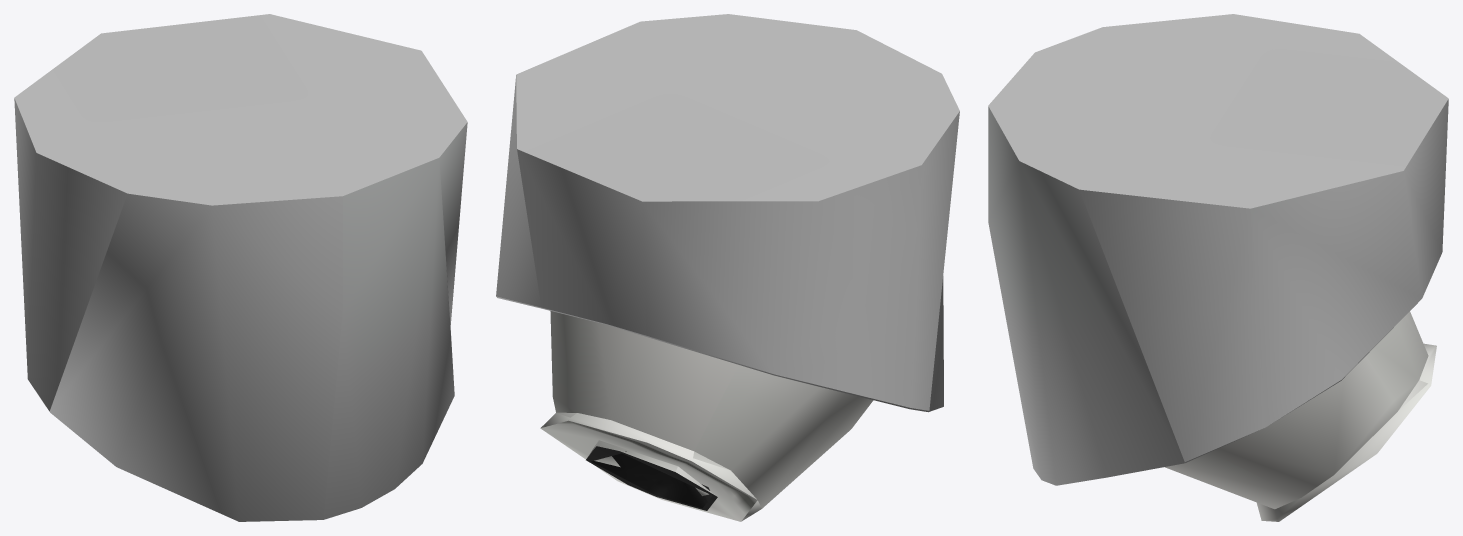
The model's file is bw-cam-a.lod1.glb.
3 views of the same model, side by side, from view 1: azimuth 30°, elevation 25°; view 2: azimuth 150°, elevation 25°; view 3: azimuth 270°, elevation 25° (orthographic).
Parts seen in each view (by area): view 1: Object_6; view 2: Object_6; view 3: Object_6.
Part boxes in pixels (<box>): Object_6: <box>14,14,467,521</box>; Object_6: <box>496,14,959,521</box>; Object_6: <box>988,14,1448,521</box>.
Size of the model in its own units: 0.4481 by 0.4139 by 0.4472.
1 material, 1 textured.
